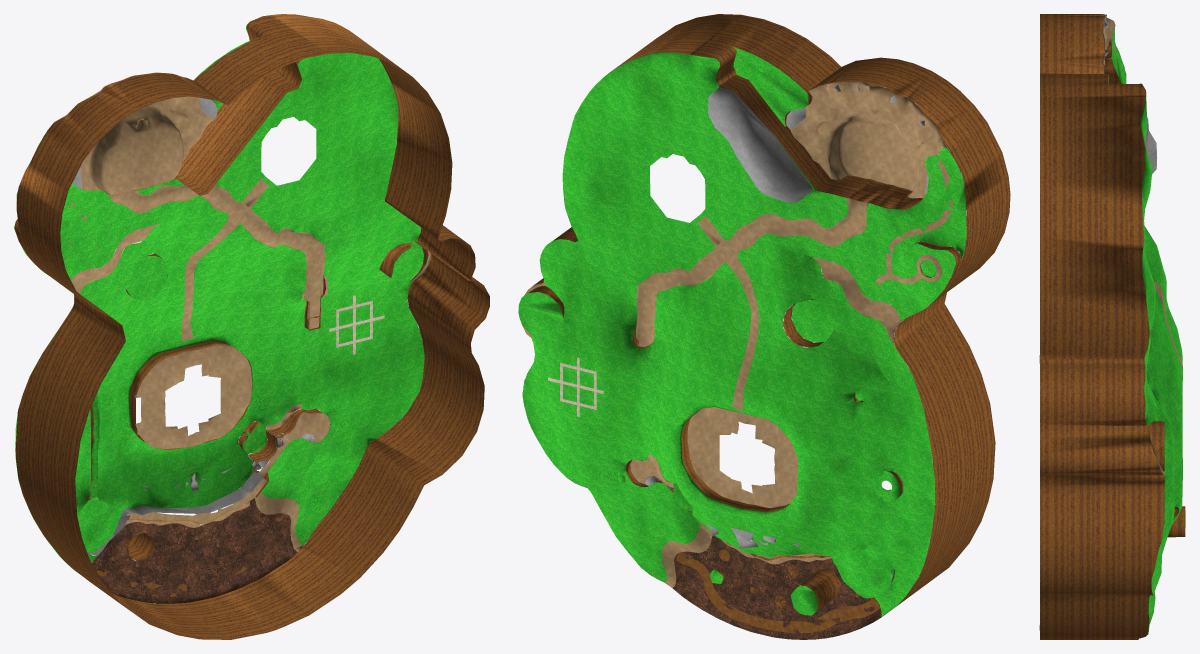
Rendered from PeachWorldGround.obj.
3 renders of one model, left to right at view 1: azimuth 30°, elevation 25°; view 2: azimuth 150°, elevation 25°; view 3: azimuth 270°, elevation 25°, orthographic.
Visible parts, largest first — view 1: pPlane1044__GroundBaseSoil05; view 2: pPlane1044__GroundBaseSoil05; view 3: pPlane1044__GroundBaseSoil05.
Boxes of the visible parts, box(x1,y1,x2,y2) form: pPlane1044__GroundBaseSoil05: box(14, 14, 489, 639); pPlane1044__GroundBaseSoil05: box(518, 14, 1010, 639); pPlane1044__GroundBaseSoil05: box(1039, 14, 1185, 639).
Bounding box in the file's own units: 30591 × 38406 × 9112.
